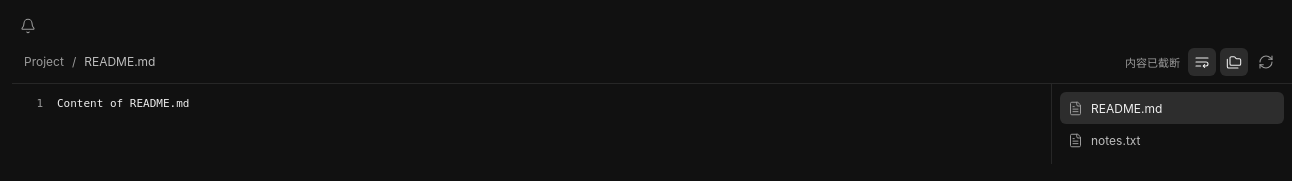
Test case: switches files from the tree and keeps the preview when the tree is hidden
Expected: the text "README.md" in the row of "内容已截断" is shown, [84,54,156,69]
Expected: the button named "刷新" is shown, [1252,48,1280,76]
Click the button "notes.txt" at [1172, 140], box [1060,124,1284,156]
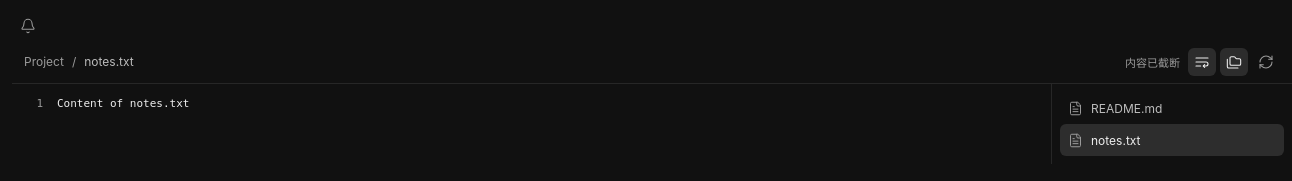
Expected: the text "Content of notes.txt" is shown, [57,97,190,110]
Click the button named "隐藏文件树" at [1234, 62], box [1220,48,1248,76]
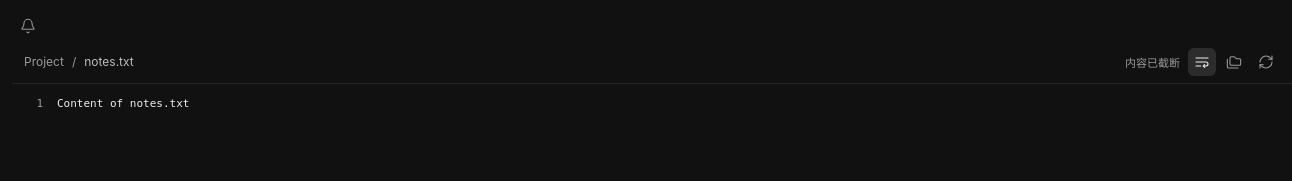
Expected: the text "Content of notes.txt" is shown, [57,97,190,110]
Expected: the navigation bar "项目文件树" is gone
Click the button named "显示文件树" at [1234, 62], box [1220,48,1248,76]
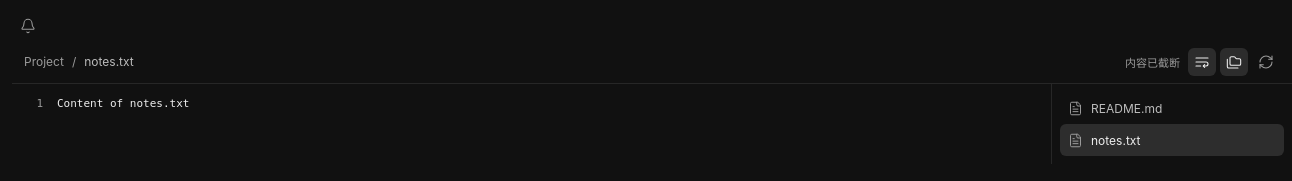
Expected: the button "notes.txt" is shown, [1060,124,1284,156]
